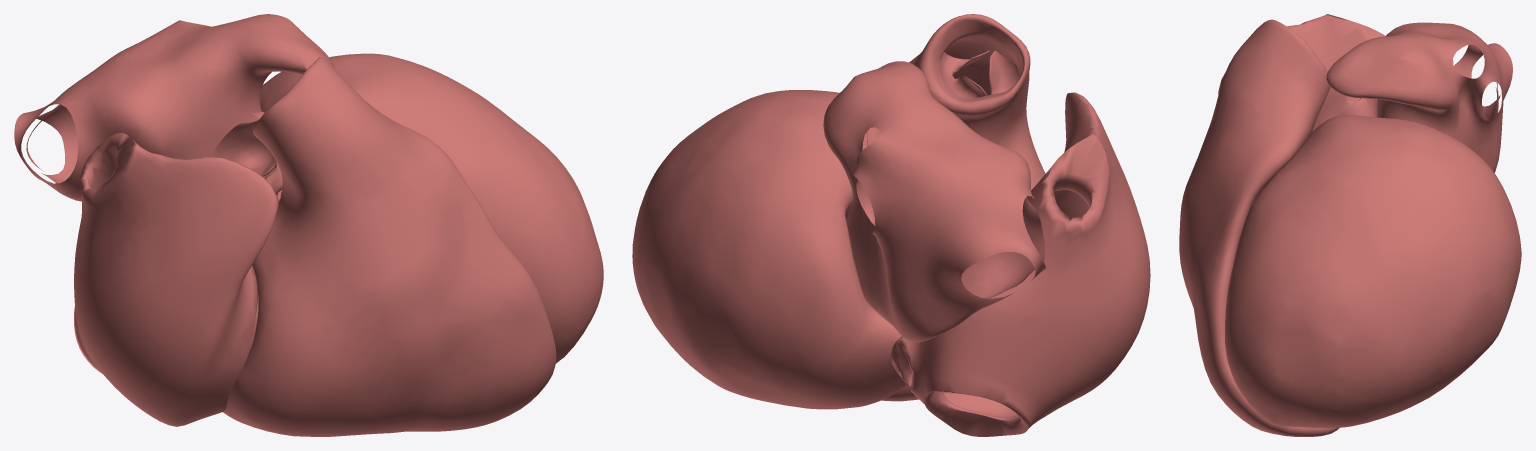
File: heart.glb
3 views of the same model, side by side, from view 1: azimuth 30°, elevation 25°; view 2: azimuth 150°, elevation 25°; view 3: azimuth 270°, elevation 25° (orthographic). The views are drawn at different scales.
Parts seen in each view (by area): view 1: VH_F_right_ventricle, VH_F_right_cardiac_atrium, VH_F_left_ventricle, VH_F_left_cardiac_atrium, VH_F_aortic_valve; view 2: VH_F_left_ventricle, VH_F_right_cardiac_atrium, VH_F_left_cardiac_atrium, VH_F_right_ventricle, VH_F_pulmonary_valve; view 3: VH_F_left_ventricle, VH_F_right_ventricle, VH_F_left_cardiac_atrium, VH_F_right_cardiac_atrium, VH_F_aortic_valve.
Boxes of the visible parts, x1,y1,x2,y2 form: VH_F_right_ventricle: (223, 57, 556, 436); VH_F_right_cardiac_atrium: (74, 132, 278, 426); VH_F_left_ventricle: (259, 53, 603, 363); VH_F_left_cardiac_atrium: (14, 14, 335, 201); VH_F_aortic_valve: (211, 111, 282, 202); VH_F_left_ventricle: (632, 90, 906, 409); VH_F_right_cardiac_atrium: (890, 92, 1150, 436); VH_F_left_cardiac_atrium: (823, 61, 1046, 342); VH_F_right_ventricle: (881, 14, 1045, 401); VH_F_pulmonary_valve: (940, 50, 1019, 97); VH_F_left_ventricle: (1225, 115, 1521, 428); VH_F_right_ventricle: (1179, 19, 1339, 436); VH_F_left_cardiac_atrium: (1326, 22, 1512, 172); VH_F_right_cardiac_atrium: (1218, 14, 1385, 102); VH_F_aortic_valve: (1312, 87, 1377, 132).
Bounding box in the file's own units: 0.1425 × 0.11 × 0.1015.
